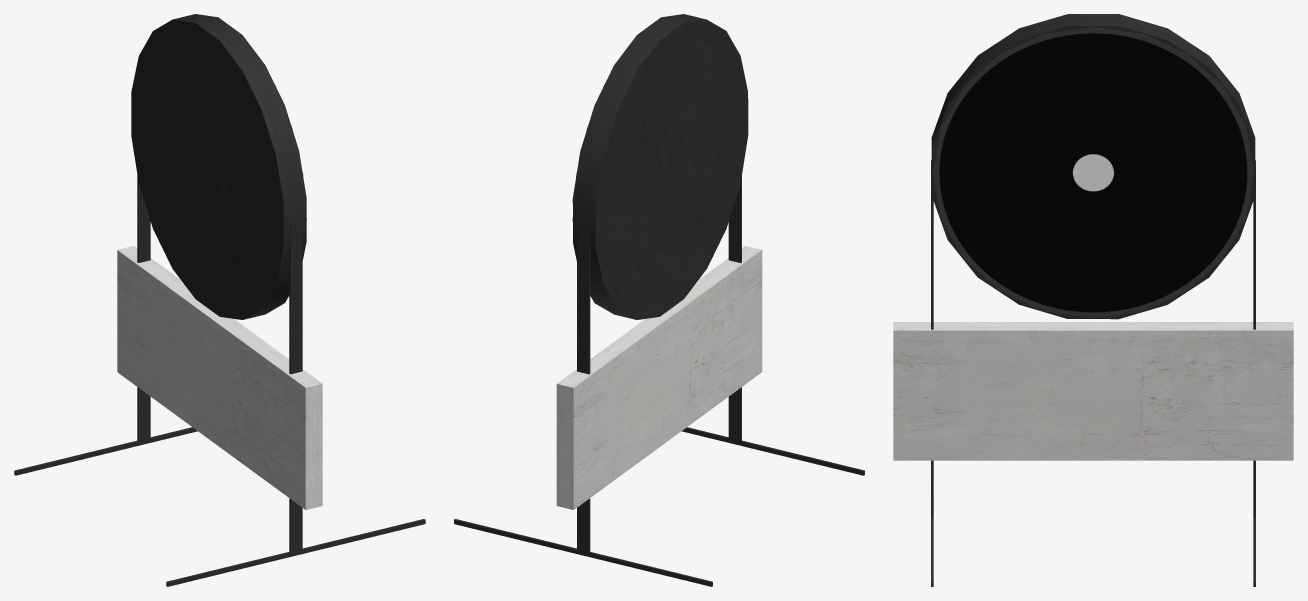
File: binaryTargetPrefab.fbx
3 renders of one model, left to right at view 1: azimuth 30°, elevation 25°; view 2: azimuth 150°, elevation 25°; view 3: azimuth 270°, elevation 25°, orthographic. The views are drawn at different scales.
Parts seen in each view (by area): view 1: Cylinder, Cube, Legs (1) (×3), Legs; view 2: Cylinder, Cube, Legs (1) (×3), Legs; view 3: Target, Cube, Cylinder, Legs (1), Legs.
Part boxes in pixels (x1,y1,x2,y2): Cylinder: [131, 14, 306, 319]; Cube: [117, 246, 322, 509]; Legs (1) (×3): [14, 175, 425, 586]; Legs: [289, 218, 302, 554]; Cylinder: [572, 14, 748, 319]; Cube: [556, 246, 762, 509]; Legs (1) (×3): [454, 217, 864, 586]; Legs: [728, 176, 741, 443]; Target: [933, 27, 1253, 318]; Cube: [893, 322, 1293, 460]; Cylinder: [931, 14, 1255, 319]; Legs (1): [1253, 160, 1255, 518]; Legs: [931, 160, 933, 518].
Size of the model in its own units: 1.84 by 3.21 by 2.33.
Materials: 4 (4 with a texture image).
